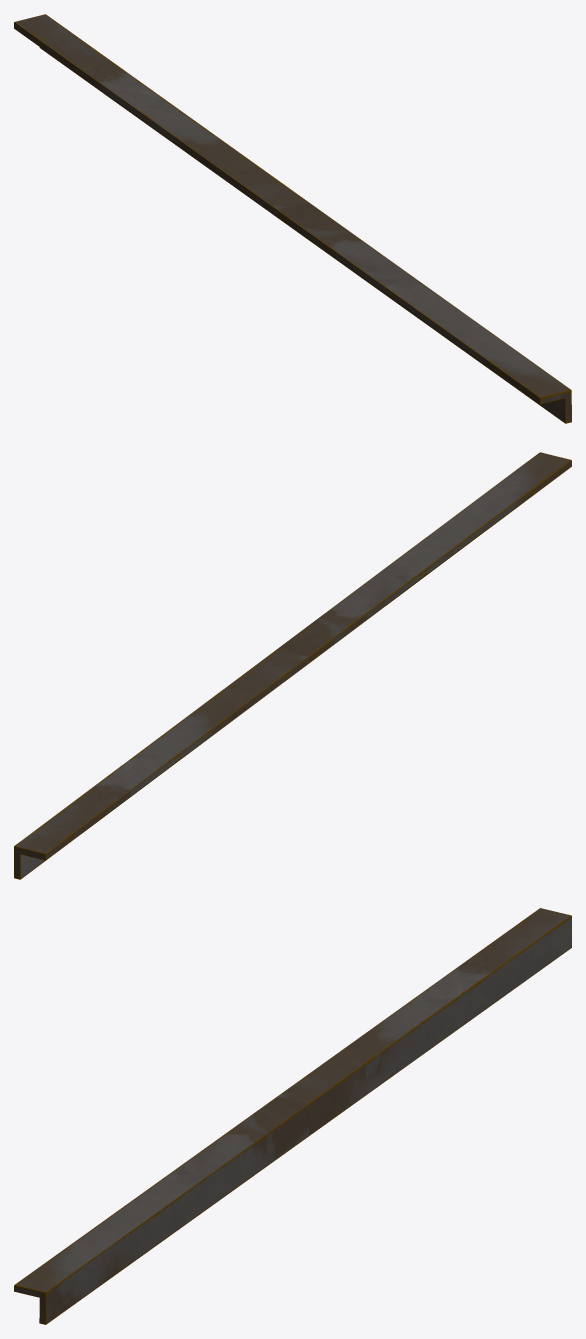
Rendered from MetalStick.fbx.
The picture shows the model from 3 angles, top to bottom: view 1: azimuth 30°, elevation 25°; view 2: azimuth 150°, elevation 25°; view 3: azimuth 330°, elevation 25°; orthographic projection.
Visible parts, largest first — view 1: Cube.011; view 2: Cube.011; view 3: Cube.011.
Part boxes in pixels (<box>): Cube.011: <box>14,14,571,423</box>; Cube.011: <box>14,452,571,879</box>; Cube.011: <box>14,908,571,1324</box>.
Size of the model in its own units: 57.59 by 68.53 by 1611.
1 material, 1 textured.
